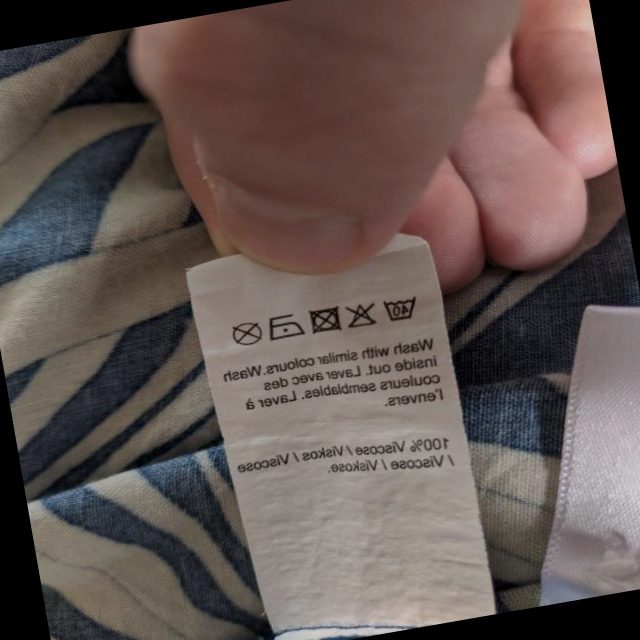40C: (381, 289, 421, 327)
DN_bleach: (341, 299, 383, 333)
DN_dry_clean: (228, 316, 265, 349)
DN_tumble_dry: (303, 300, 345, 340)
iron_low: (262, 307, 307, 345)
